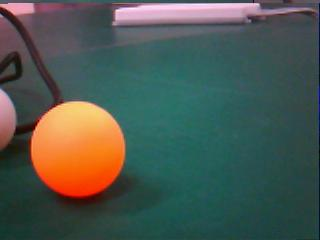oball: (30, 99, 125, 197)
